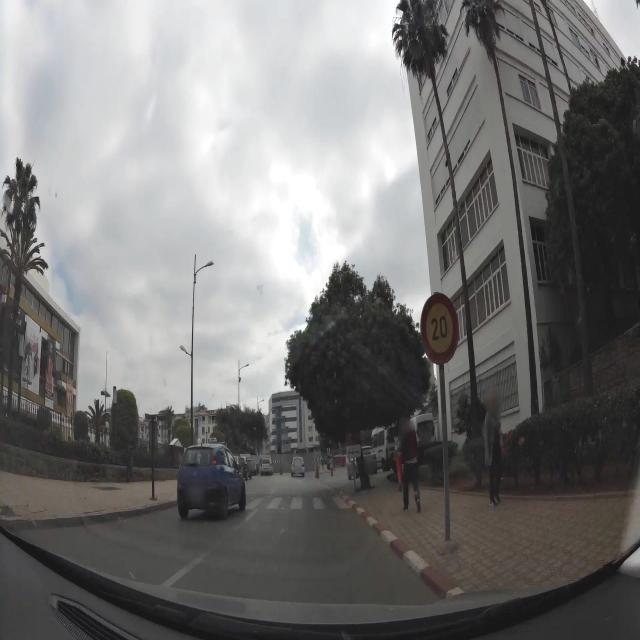car: (176, 442, 247, 520), (290, 456, 306, 478), (260, 457, 273, 476)
